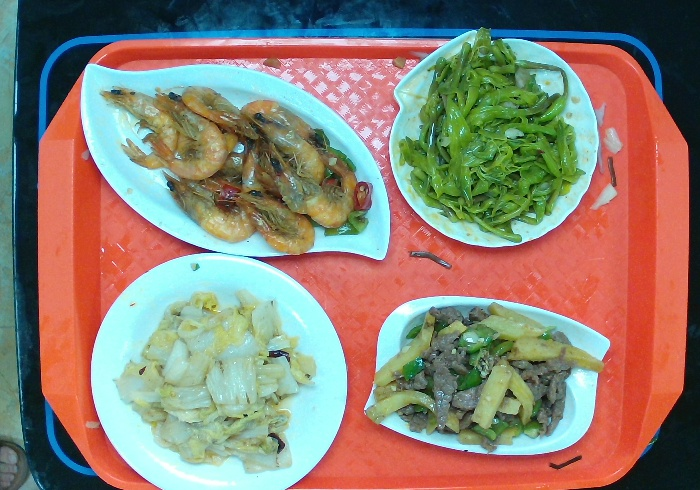RJxy-Bei_Ke_Wan: (383, 25, 604, 252)
RJxy-Jian_Jiao_Fang_Die: (359, 292, 616, 459)
RJxy-Jian_Jiao_Pan: (76, 57, 396, 268)
RJxy-Yuan_Pan: (83, 248, 351, 490)
